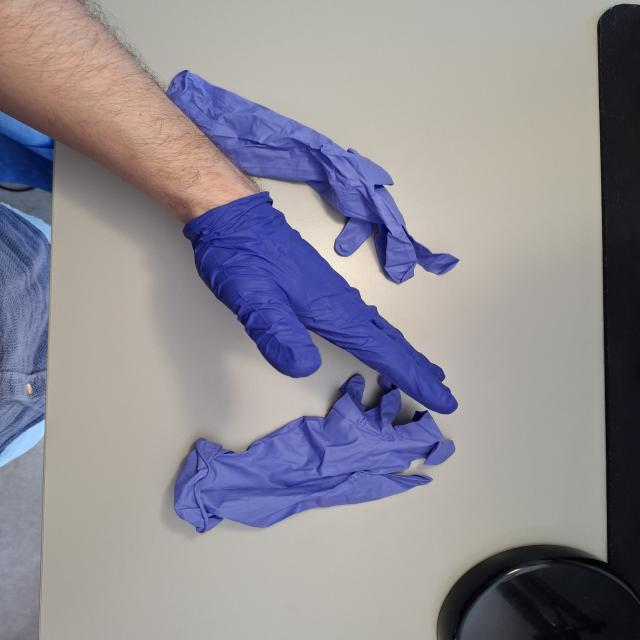glove_on: (179, 188, 463, 418)
